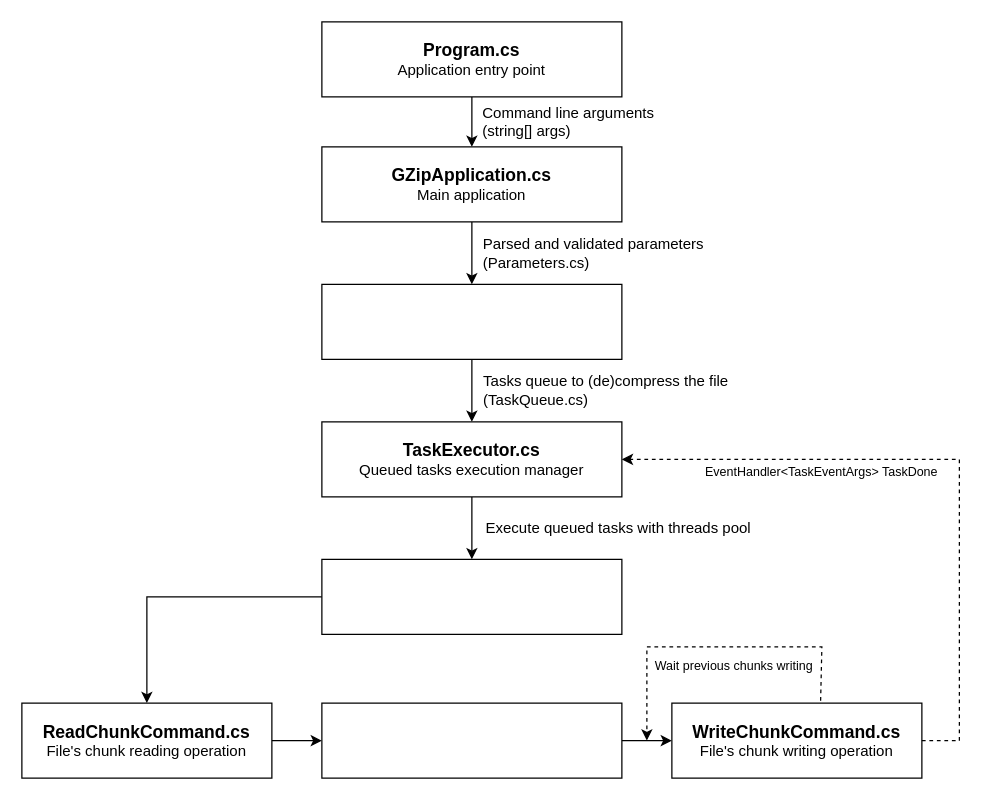
Some shapes in this 991 by 800 pixel diagram are drawn without their labels. The shapes that lost their labels are listed below. From the top down, each one's box as (x1, y1, x2, y2) in pixels, then its label:
(321, 283, 622, 359): GZipArchiver.cs Compress/decompress manager
(321, 558, 622, 634): BaseTask.cs File processing task CompressionTask.cs / DecompressionTask.cs
(321, 702, 622, 778): (De)CompressChunkCommand.cs File's chunk (de)compressing opeartion
